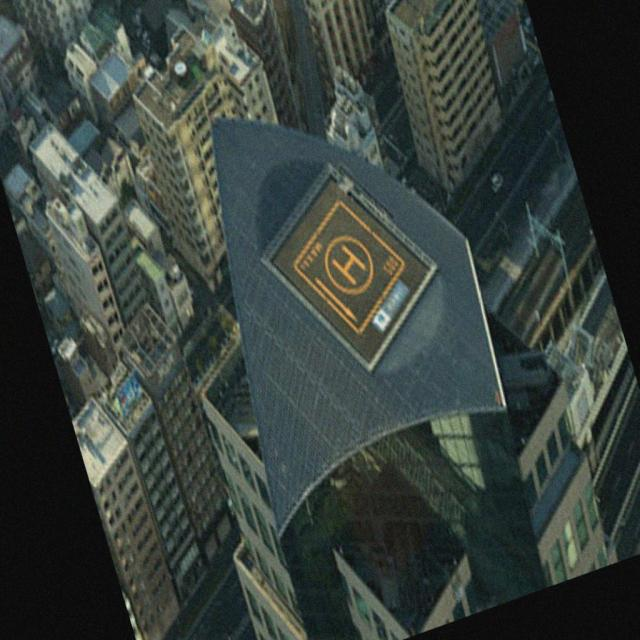helipad: (323, 232, 375, 297)
